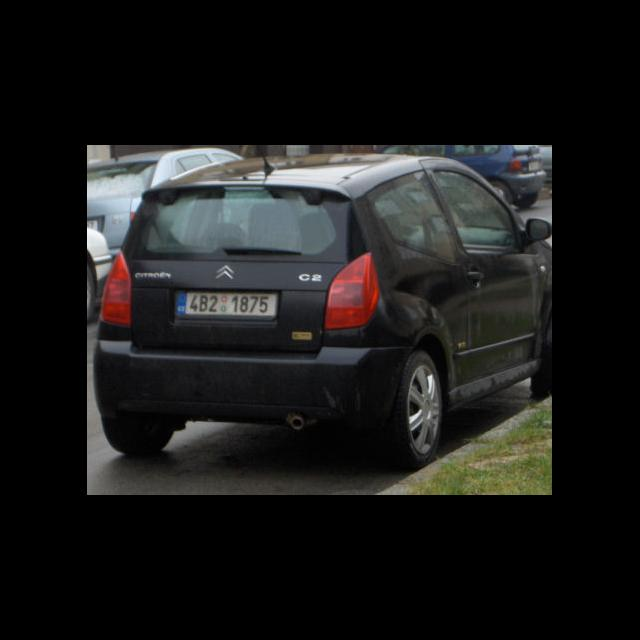Plate: (173, 288, 280, 320)
